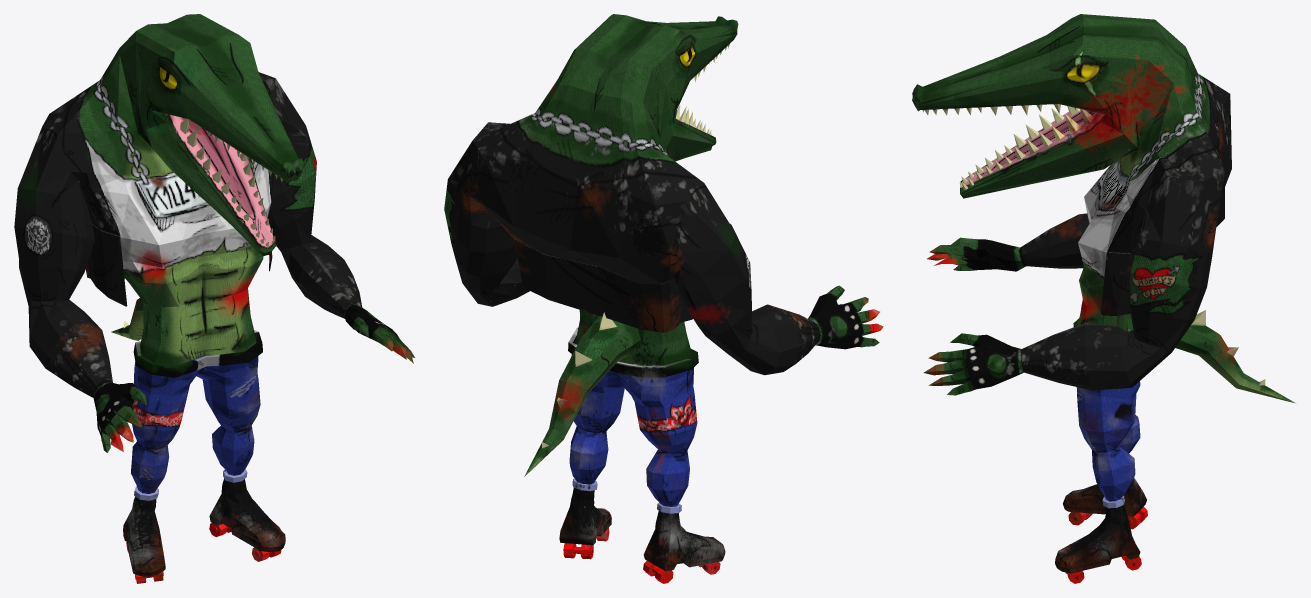
File: cocodrilaBonesSelect_000003.obj
3 renders of one model, left to right at view 1: azimuth 30°, elevation 25°; view 2: azimuth 150°, elevation 25°; view 3: azimuth 270°, elevation 25°, orthographic. The views are drawn at different scales.
Parts seen in each view (by area): view 1: Crocodile.002_Cylinder.002; view 2: Crocodile.002_Cylinder.002; view 3: Crocodile.002_Cylinder.002.
Part boxes in pixels (x1,y1,x2,y2): Crocodile.002_Cylinder.002: (14, 14, 414, 583); Crocodile.002_Cylinder.002: (444, 14, 883, 583); Crocodile.002_Cylinder.002: (912, 14, 1296, 583).
Bounding box in the file's own units: 4.24 × 6.76 × 4.5.
